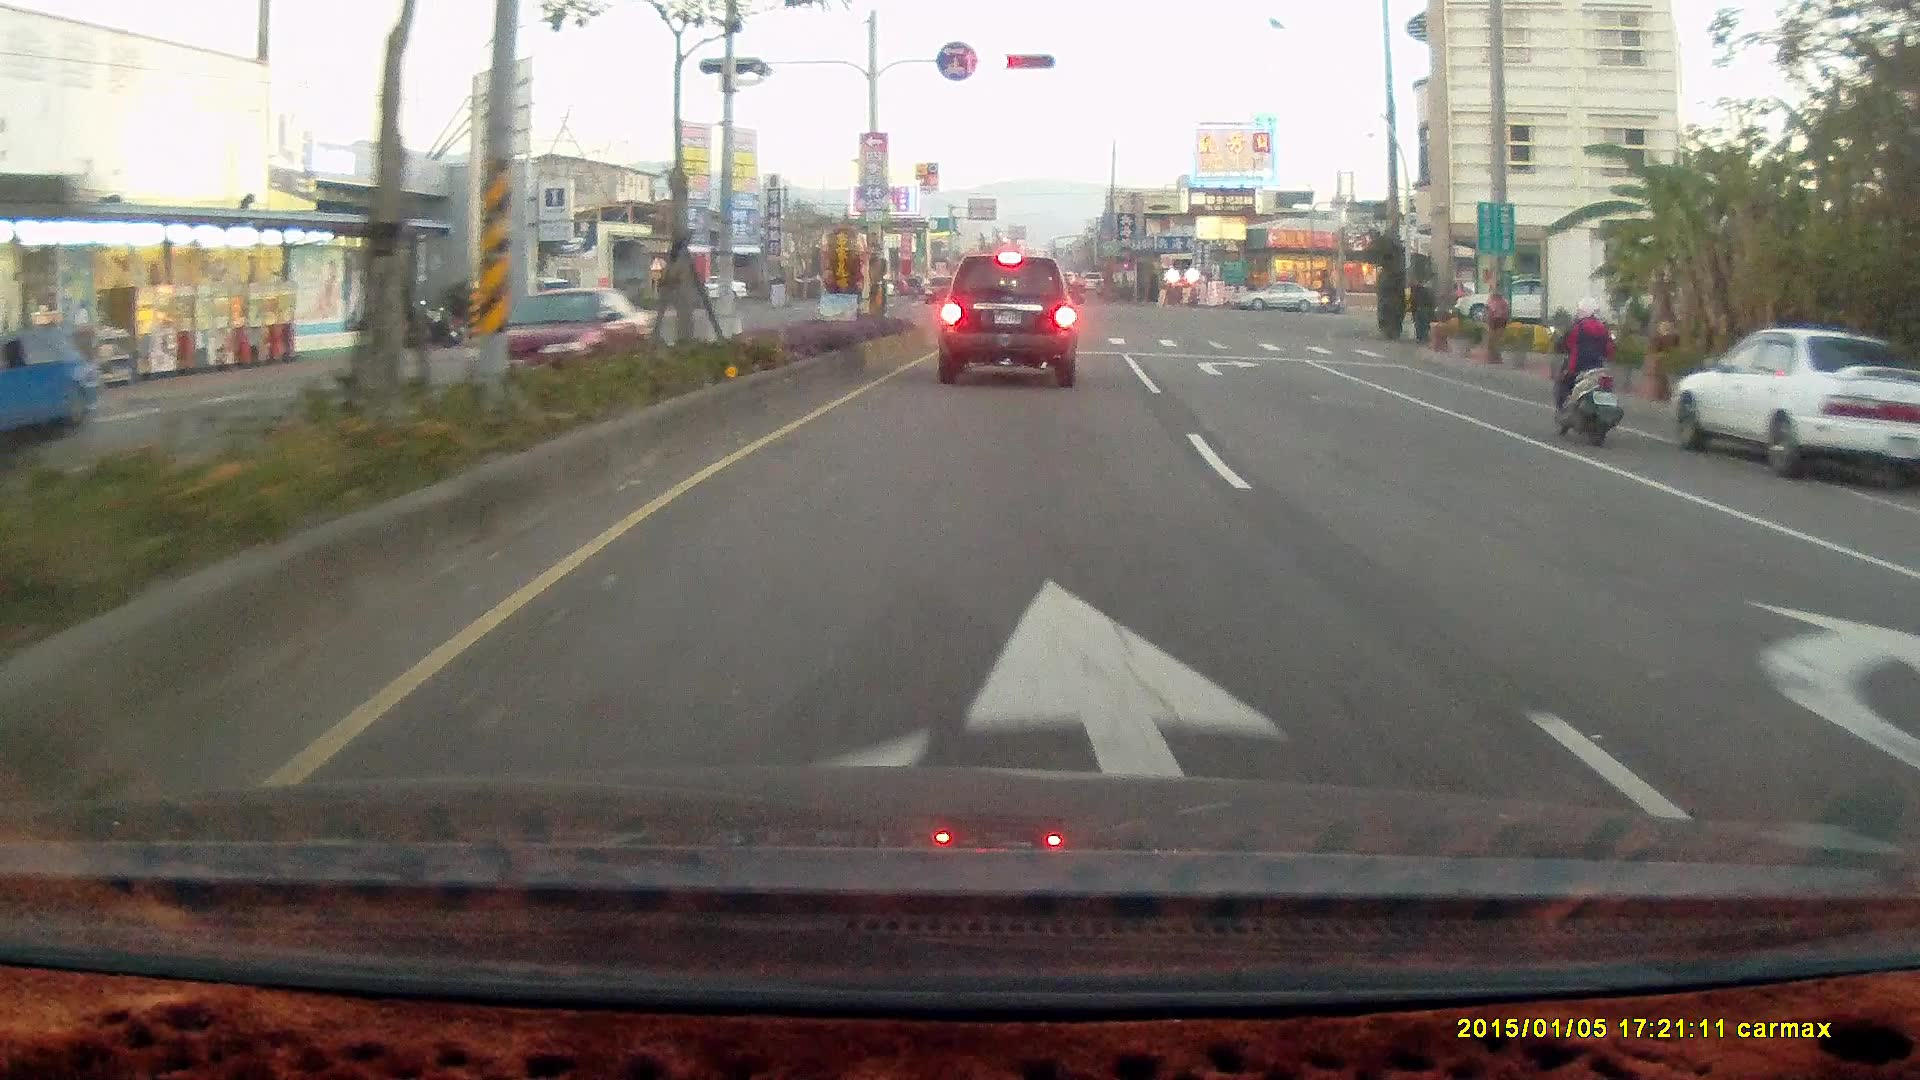rider: (1542, 295, 1624, 448), (1316, 277, 1342, 313)
vehicle: (1666, 323, 1920, 487), (1665, 326, 1920, 484), (936, 251, 1079, 388), (1896, 493, 1920, 836), (1452, 274, 1571, 328), (1883, 528, 1920, 690), (1230, 279, 1325, 317), (1230, 280, 1320, 313)
